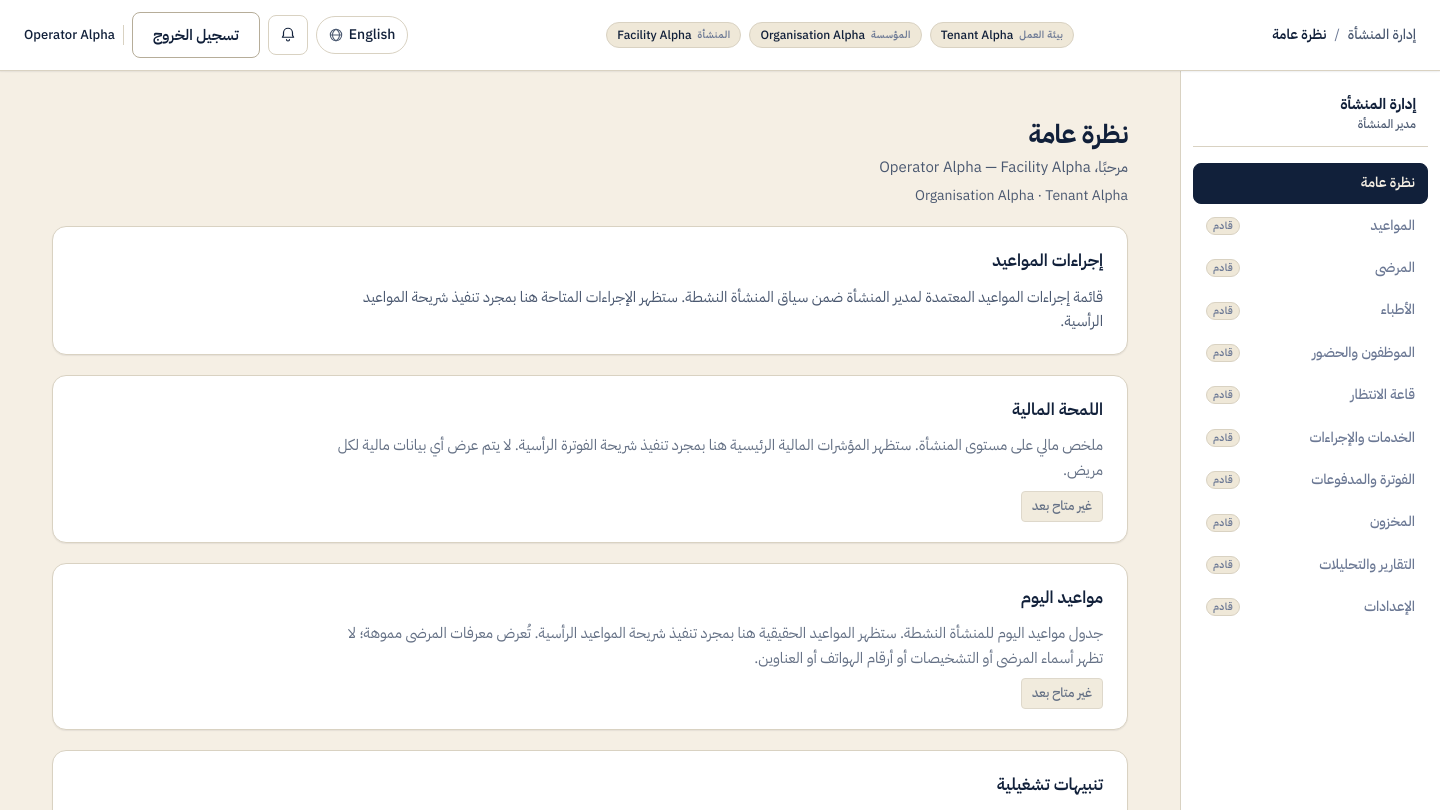
Test: ClinicAdminPage — Clinic Admin shell v1 › 8. does not render hardcoded notification records
Click the button named "الإشعارات". click: (288, 35)
box: [268,15,308,55]
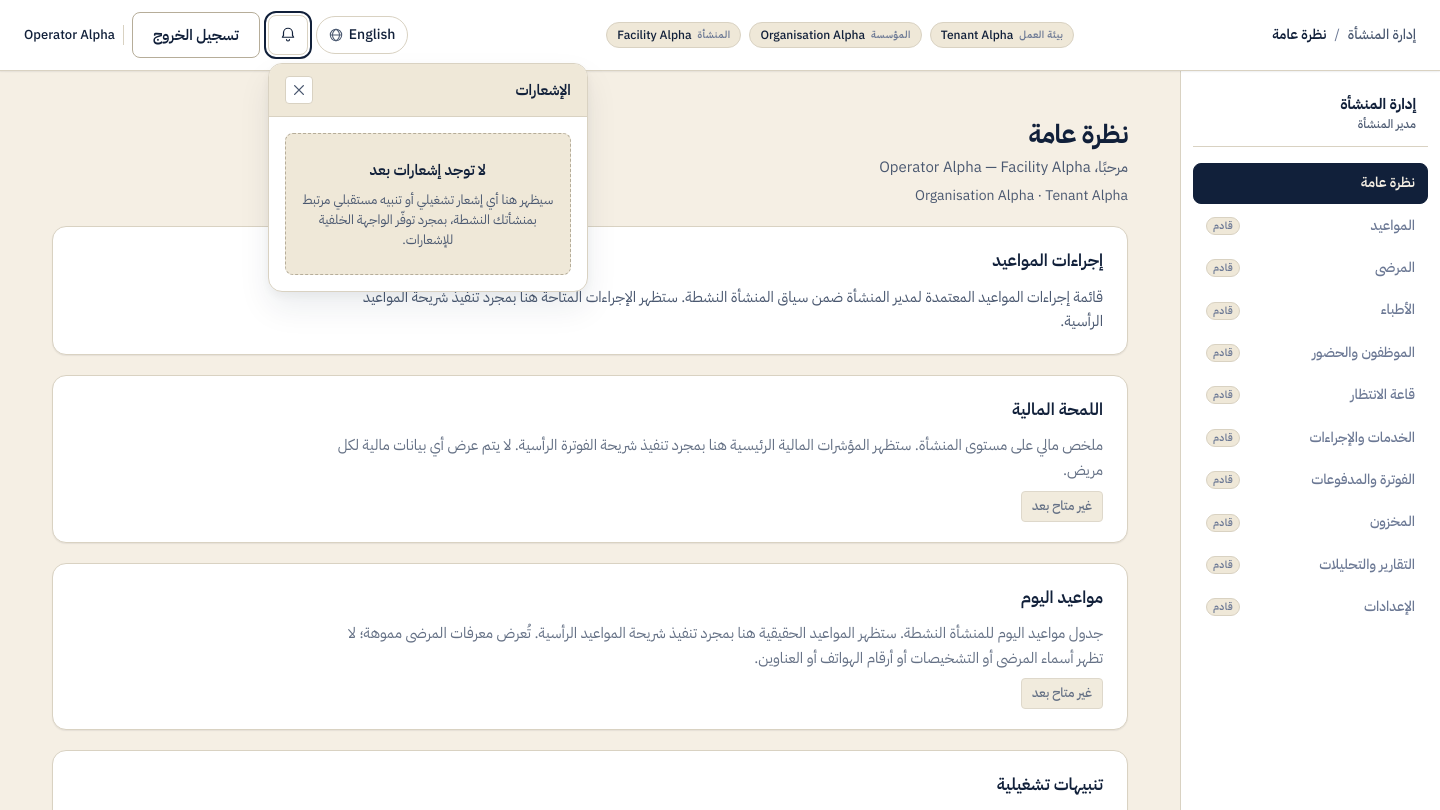
Expected: the element with class "ih-clinic-admin-bell__panel-body" is shown, [269,117,587,291]
Expected: the text "لا توجد إشعارات بعد" is shown, [370,159,486,181]
Expected: the text with class "ih-clinic-admin-bell__empty-body" is shown, [302,190,554,250]
